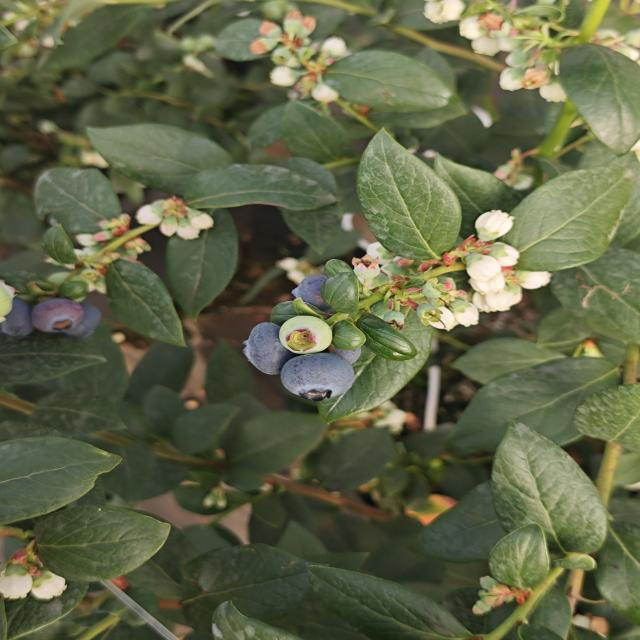ripe: (277, 351, 358, 404), (28, 296, 102, 340), (240, 320, 291, 377), (292, 274, 330, 315)
